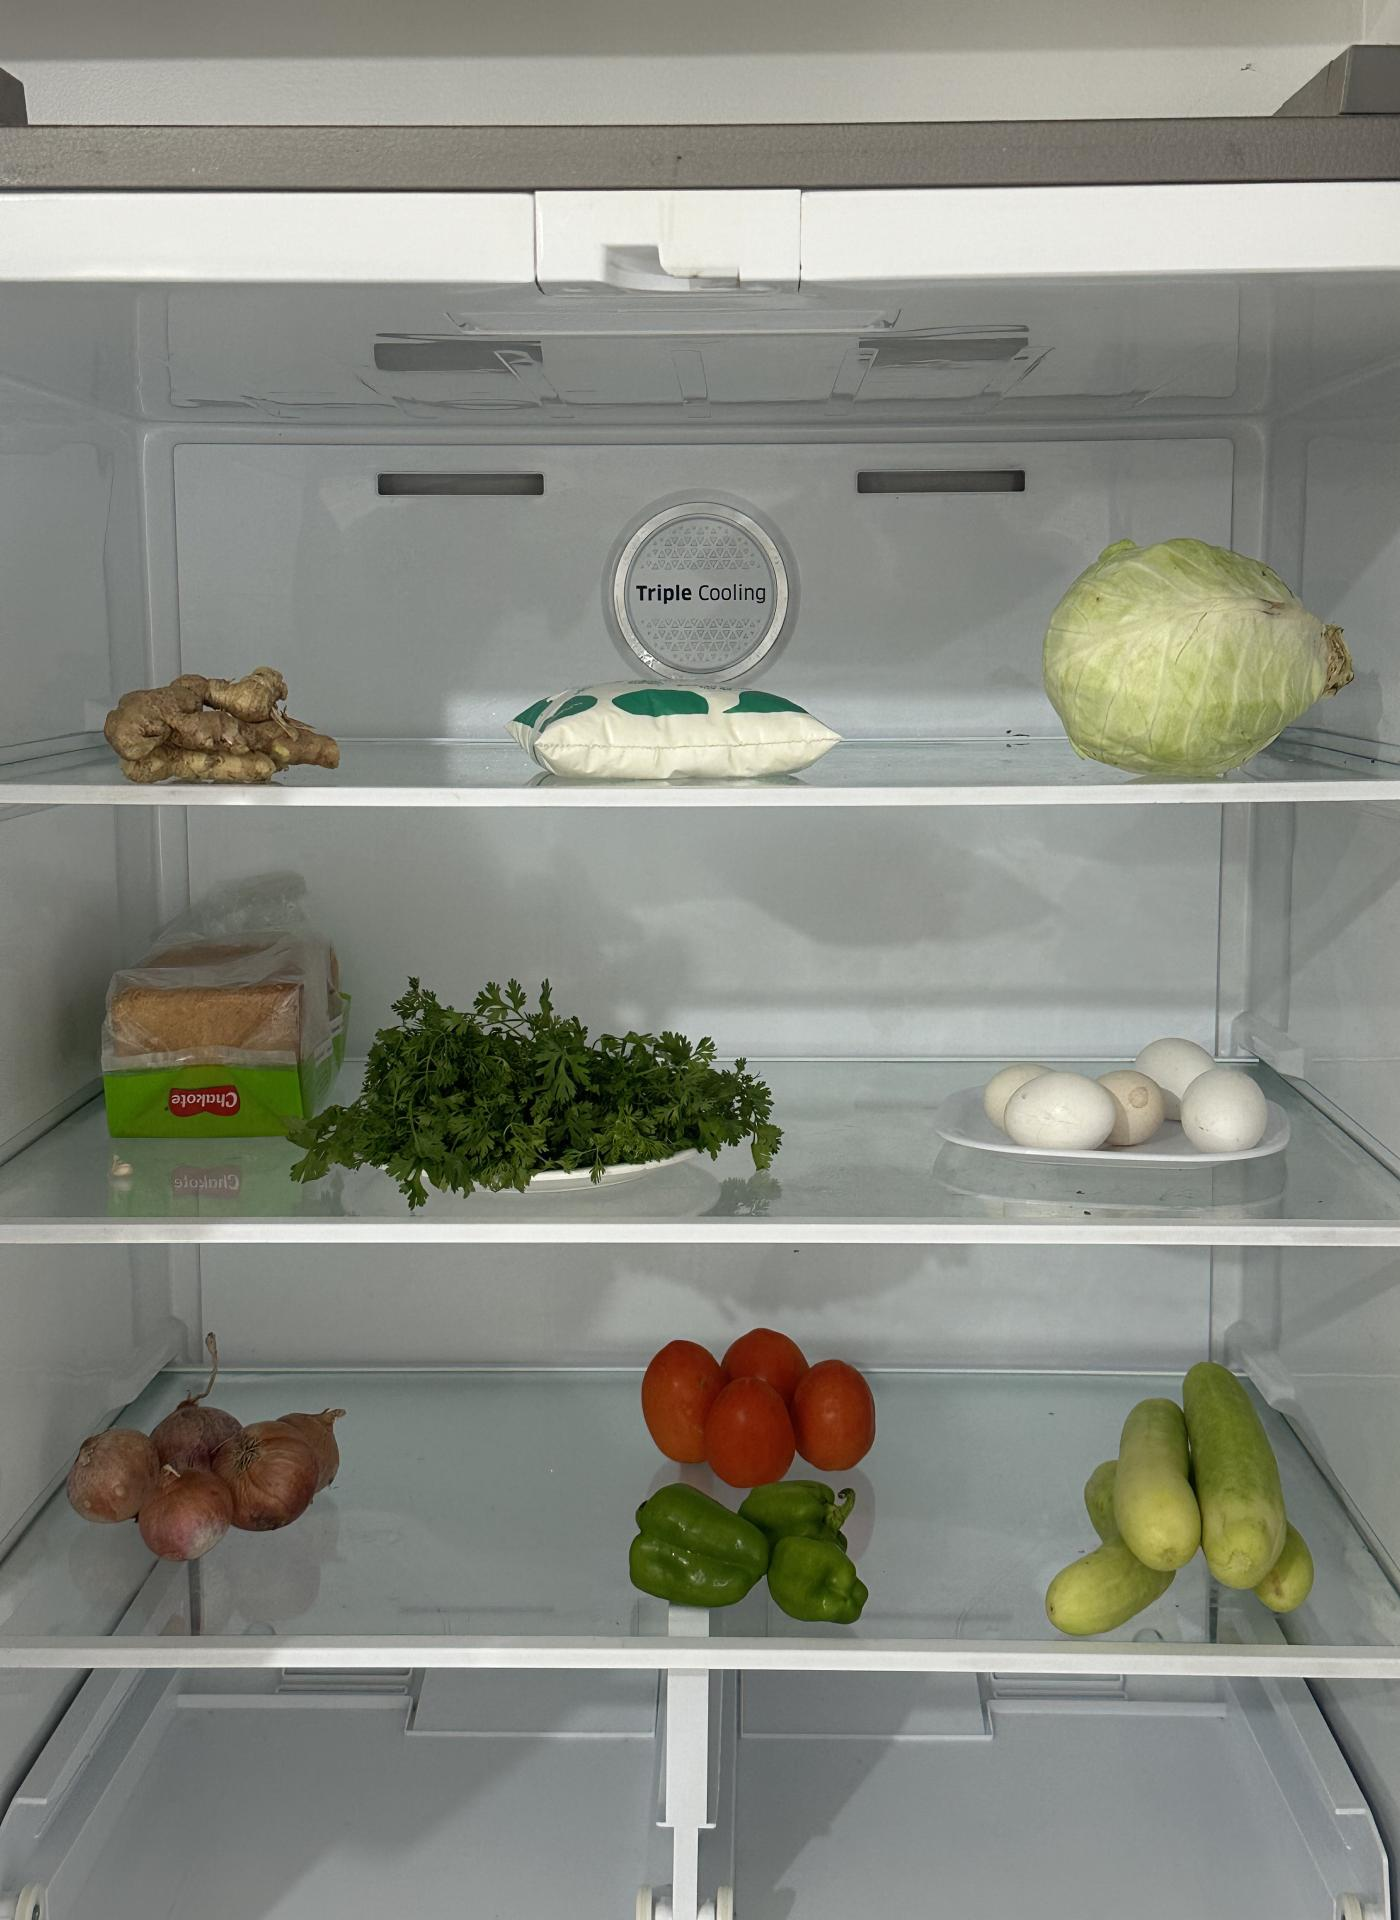bread: (97, 903, 346, 1130)
cabbage: (1036, 540, 1351, 775)
capsicum: (626, 1483, 875, 1631)
coriander: (361, 991, 777, 1199)
cucumber: (1042, 1360, 1314, 1638)
egg: (986, 1035, 1264, 1166)
ginger: (97, 654, 343, 795)
milk: (514, 677, 838, 778)
onion: (69, 1392, 340, 1550)
tomato: (641, 1324, 880, 1482)
